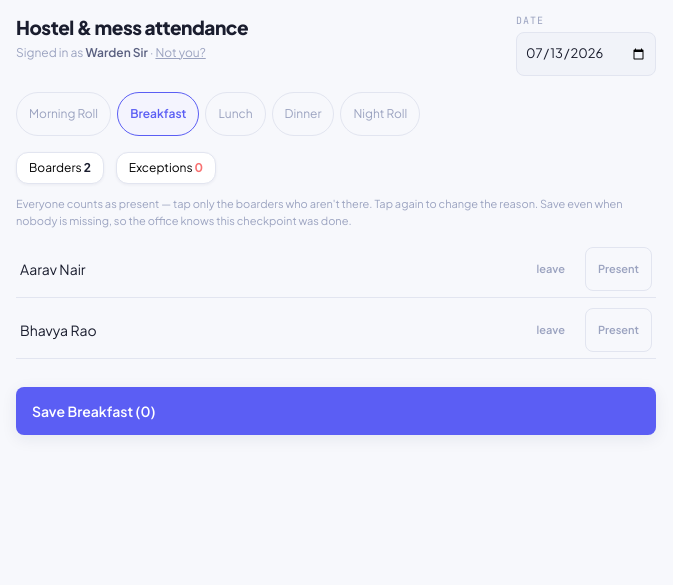
HostelAttendancePage — roll reconciliation › asks for a headcount on a roll checkpoint but not on a meal
This screenshot has width=673, height=585.
Expected: the text "Aarav Nair" is shown, [20,260,86,278]
Expected: the field labelled "headcount" is not shown
Click the button "Night Roll" at (380, 114), box [340,92,420,136]
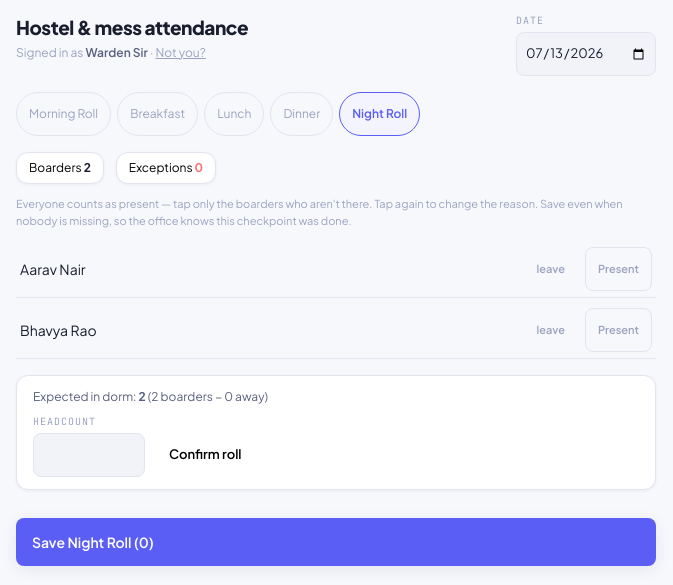
Now the number field labelled "Headcount" is shown, box [33,433,145,477]
